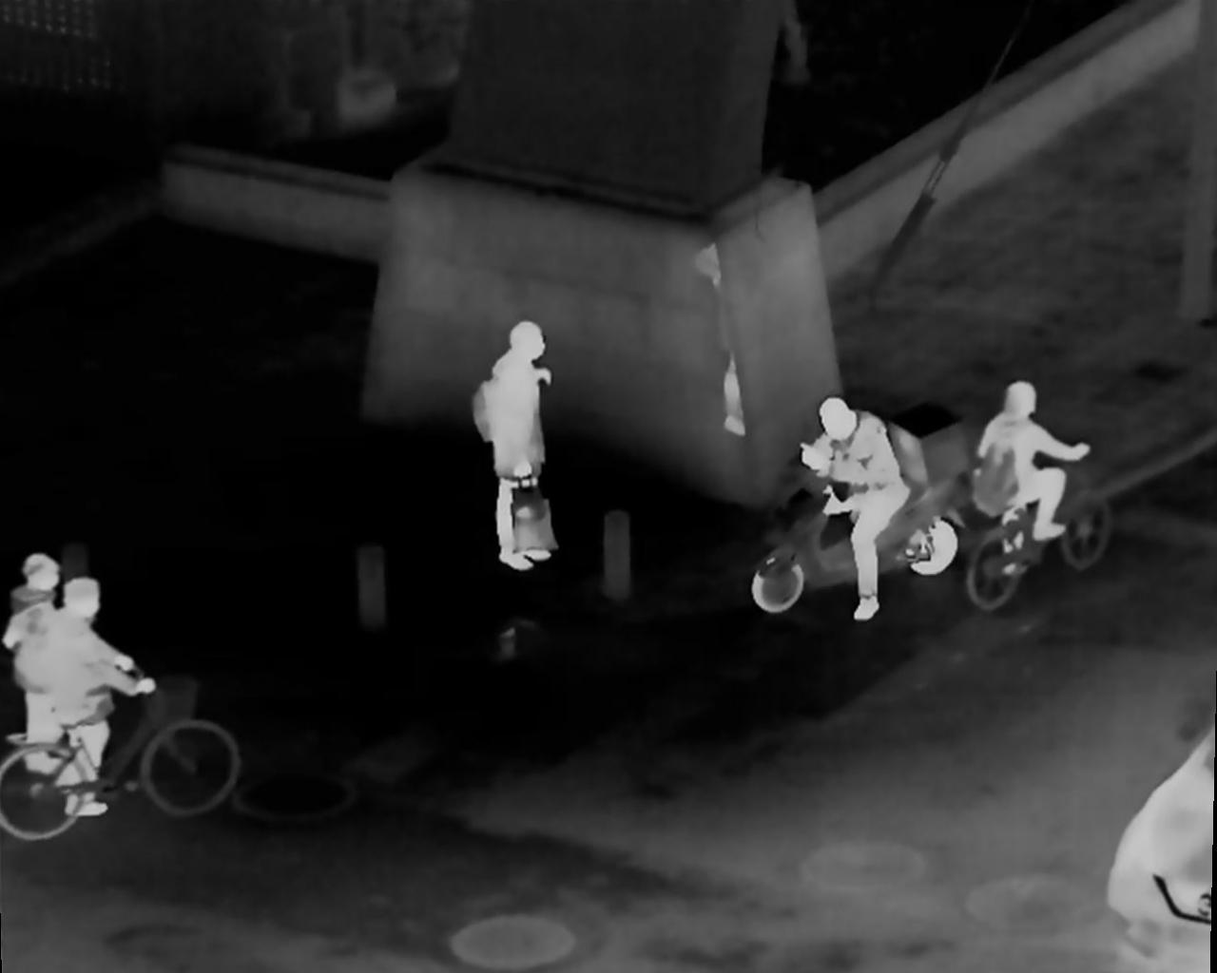person: (797, 392, 935, 623), (52, 573, 141, 814), (978, 385, 1085, 579), (483, 317, 562, 577), (17, 549, 69, 753)
